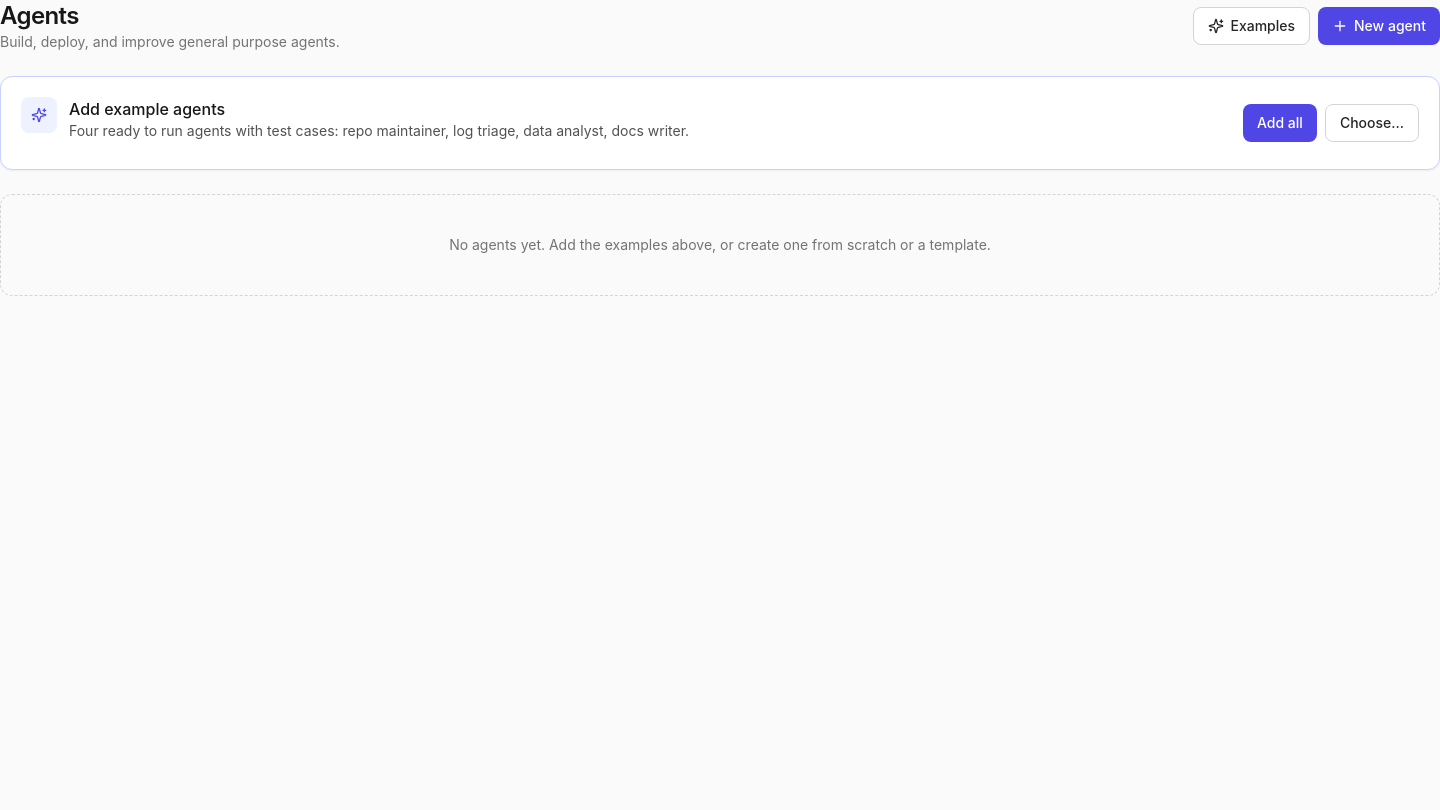
Test case: Example agents on the Agents page › shows server errors in the modal
Click the button "Examples" at (1252, 26), box [1194,7,1310,45]
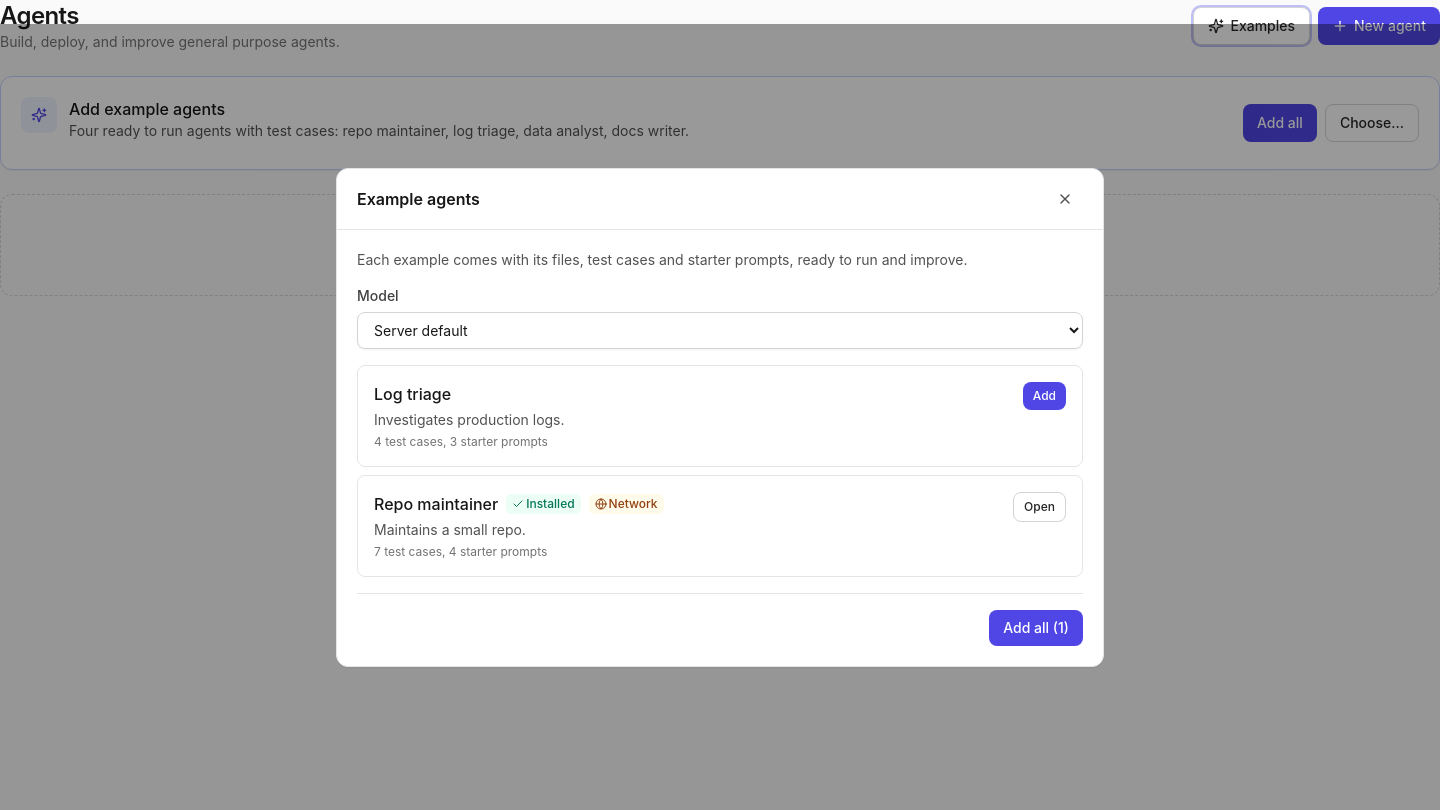
Click the button with aria-label "Add Log triage" at (1044, 396), box [1023,382,1066,410]
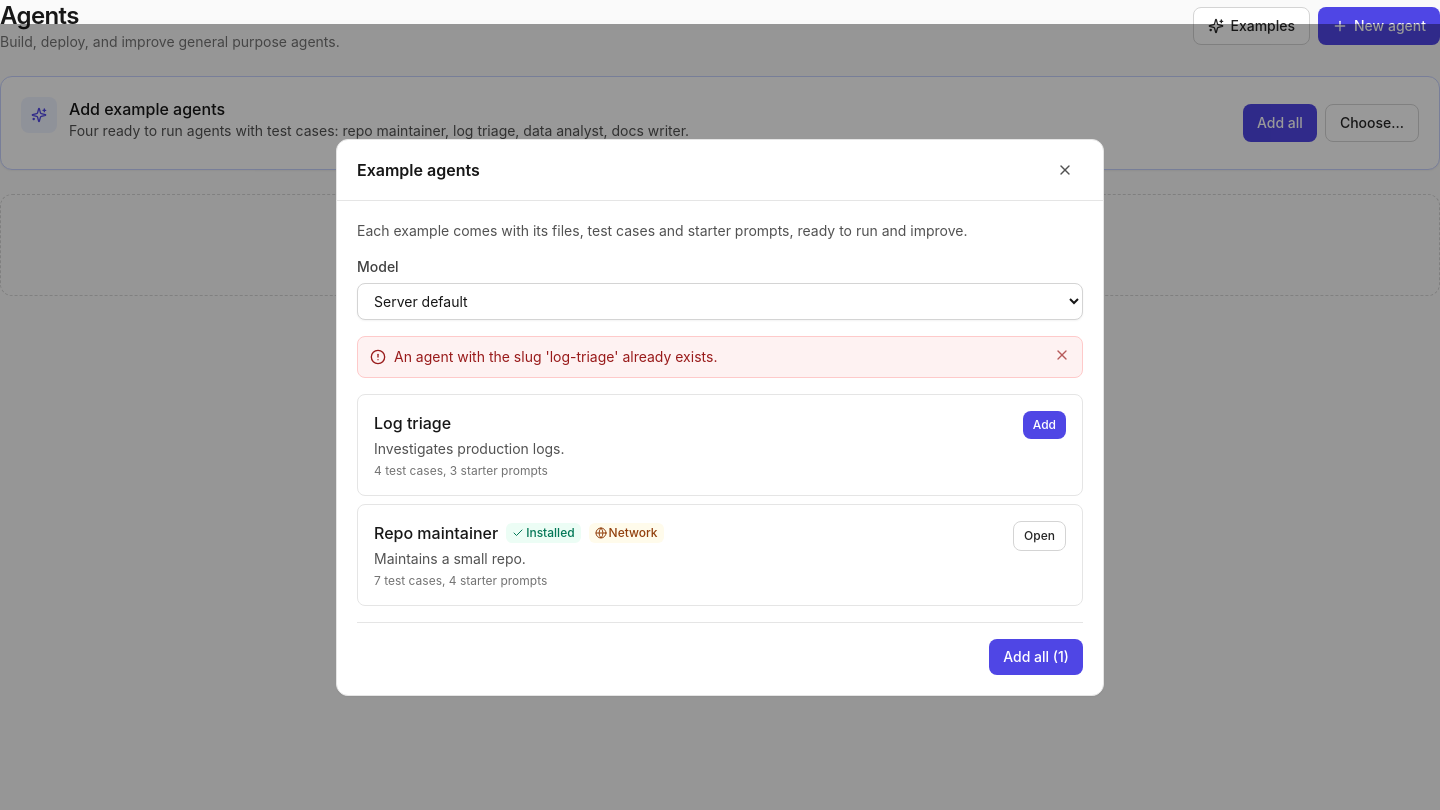
Now the text "An agent with the slug 'log-triage' already exists." is shown, box [394,348,717,364]
